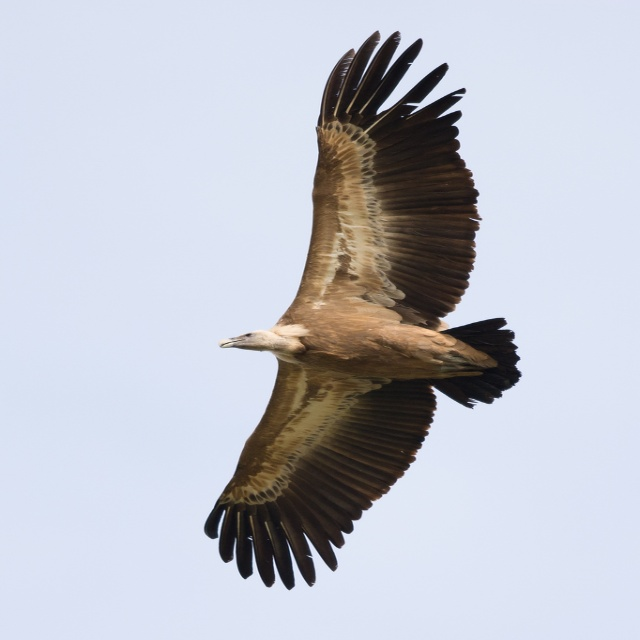Eagle: (203, 30, 522, 592)
